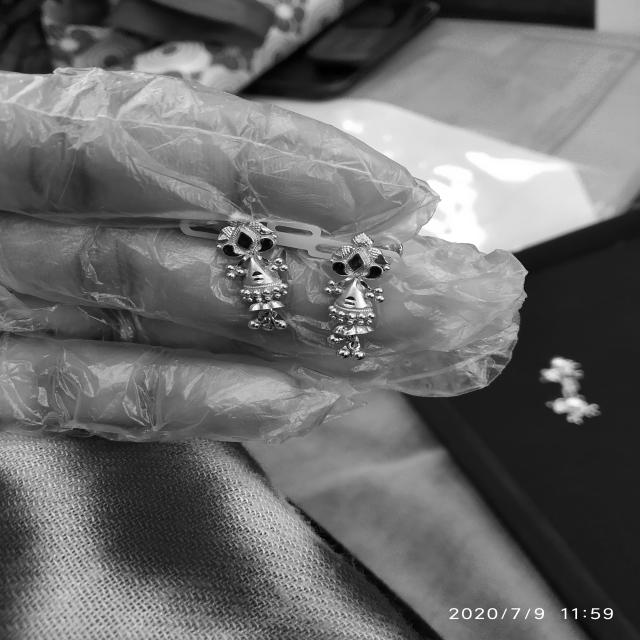Gloves: (0, 66, 522, 470)
